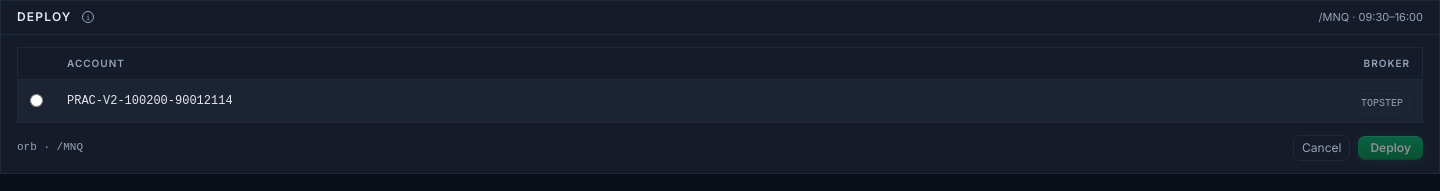
another playbook already on this account and contract › shows no warning when nothing else runs on the contract
This screenshot has width=1440, height=191.
Click the radio button named "PRAC-V2-100200-90012114". click: coordinates (36, 100)
box: [30,94,43,106]
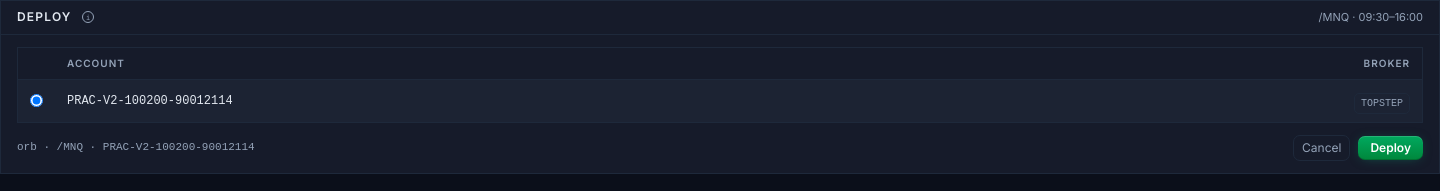
Check: the button "Deploy" is enabled, box [1358,136,1423,160]
